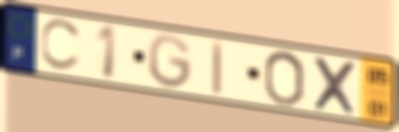1: (94, 22, 118, 81)
C: (39, 18, 86, 74)
G: (146, 32, 194, 92)
I: (211, 39, 225, 99)
O: (262, 50, 307, 108)
X: (310, 54, 359, 118)
